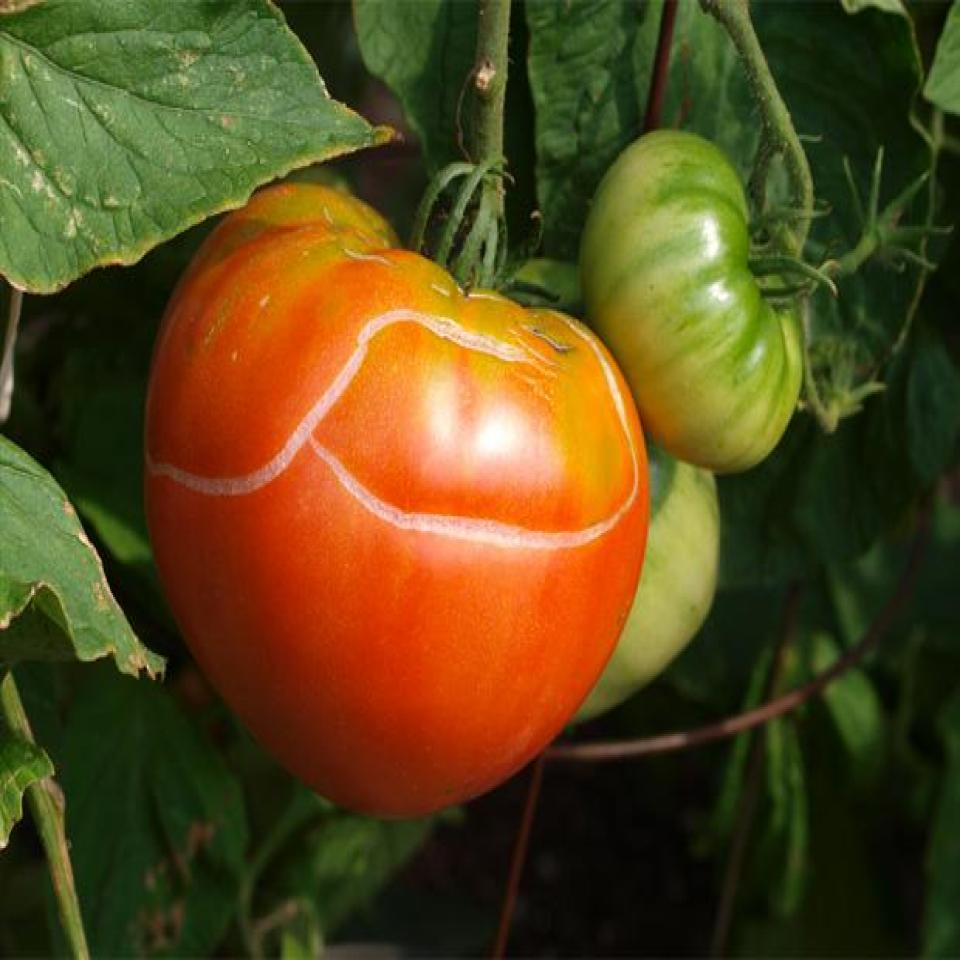Cracking: (268, 296, 646, 623), (140, 282, 542, 522)
